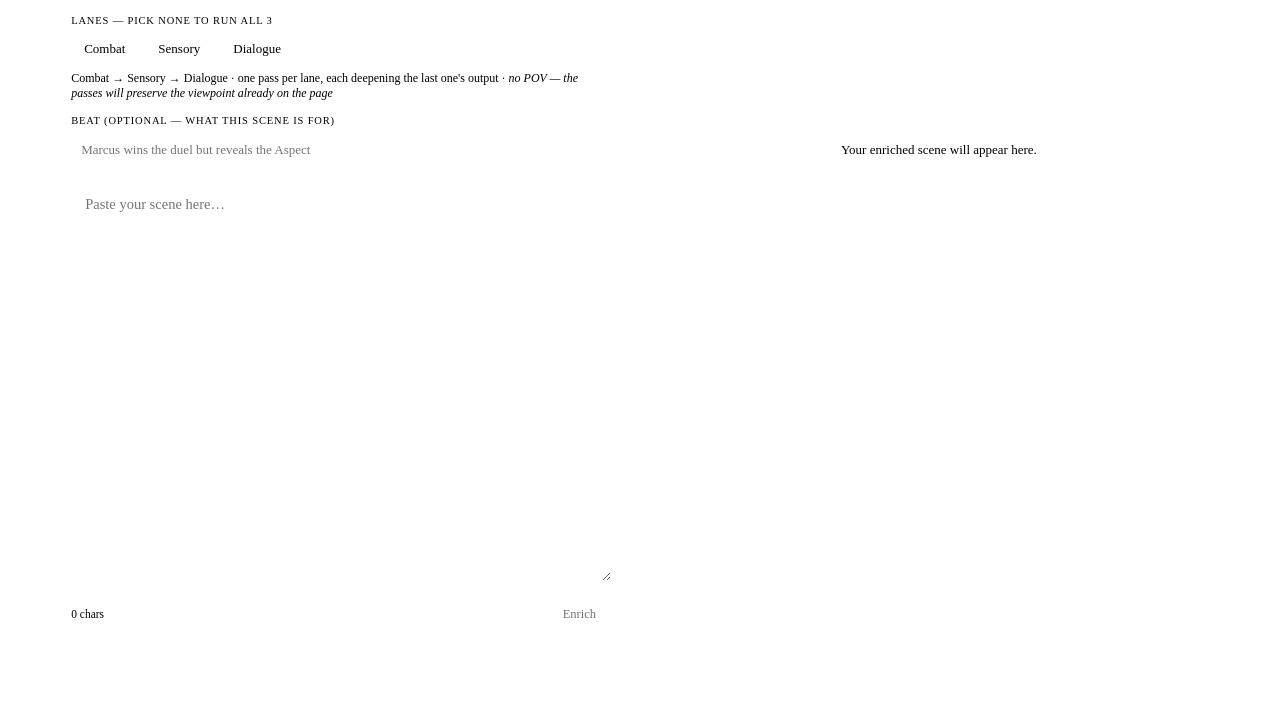
Test: EnrichScreen persistence › surfaces a stripped dialogue ruleset instead of passing off the output as good
(page scrolled)
Step 1. Type "'Hi,' he said." into the text box with placeholder "Paste your scene here…" → (341, 380), box [71,178,611,581]
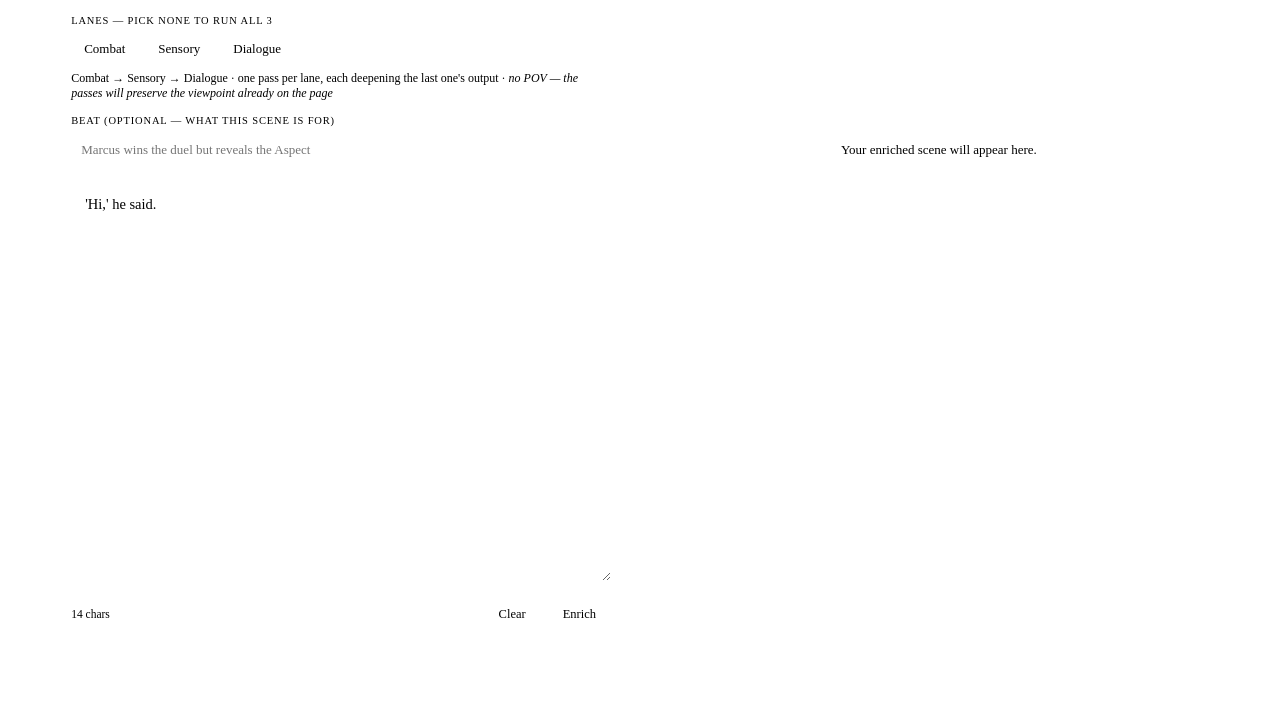
Step 2. Click the button "Enrich" → (579, 614), box [548,597,611,631]
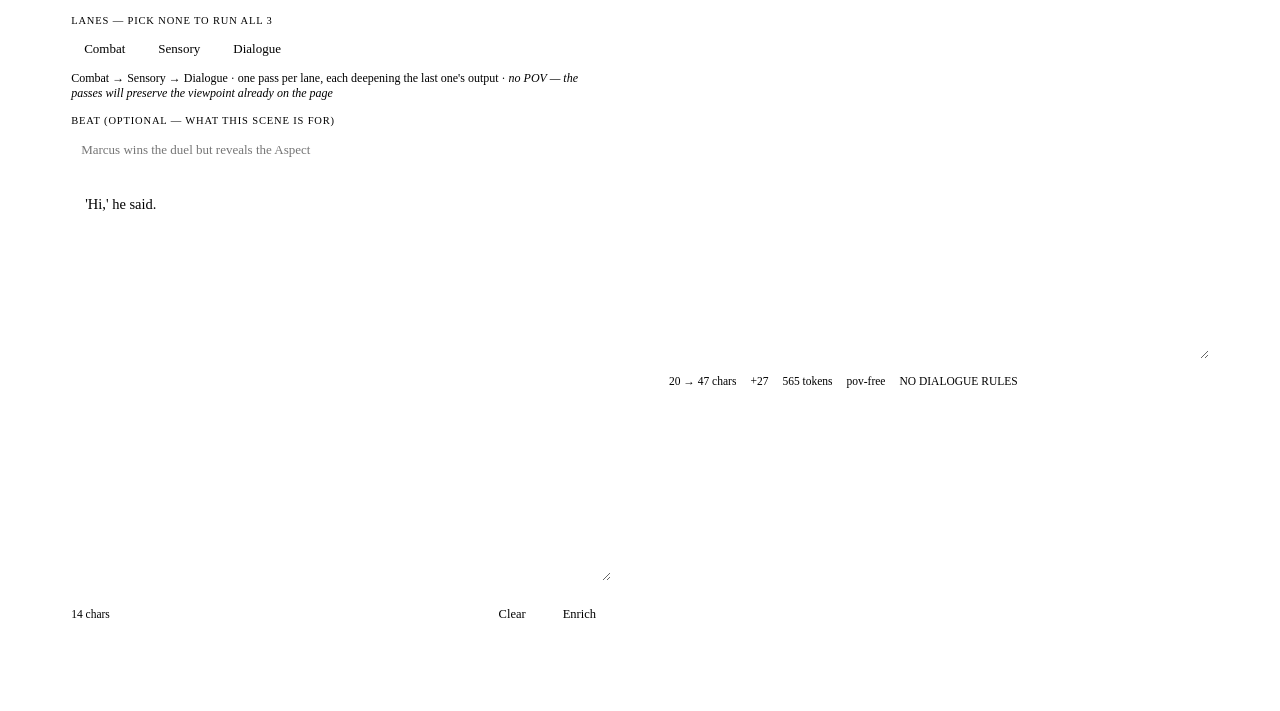
Expected: the text "NO DIALOGUE RULES" is shown, [900,375,1018,387]
